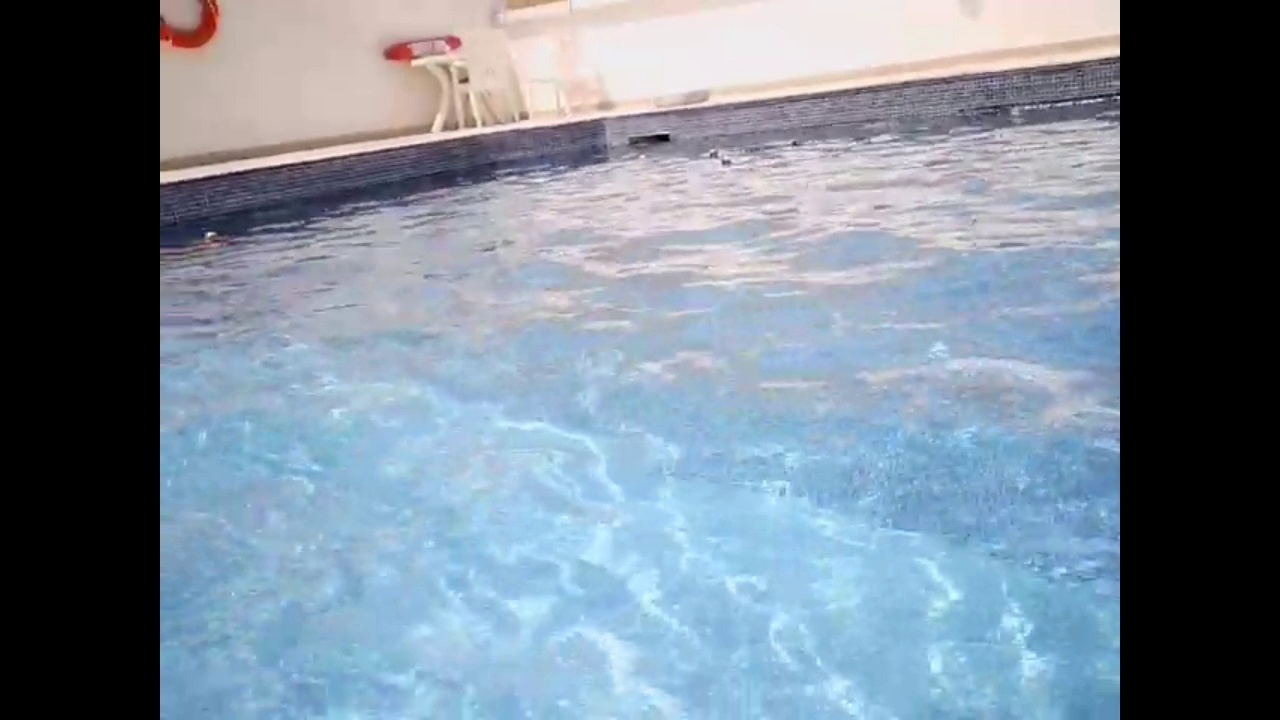debris: (199, 227, 221, 248), (718, 151, 734, 169), (786, 135, 802, 151), (704, 147, 721, 162)
